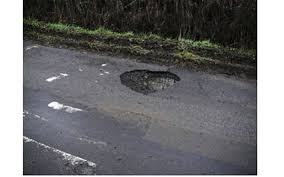pothole: (110, 62, 208, 98)
